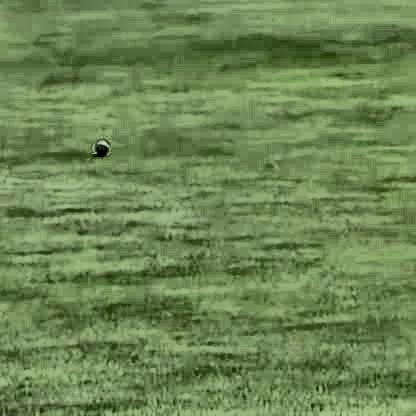golfball: (91, 137, 107, 153)
